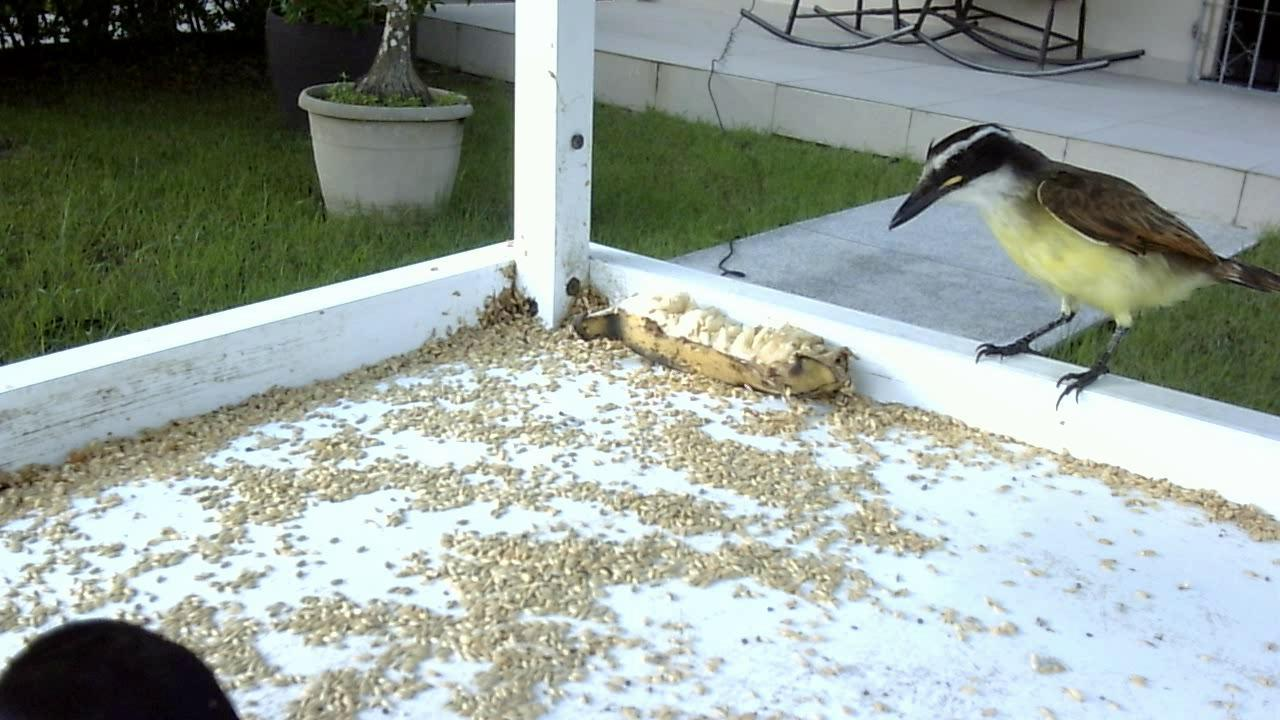bem_te_vi: (878, 105, 1280, 428)
